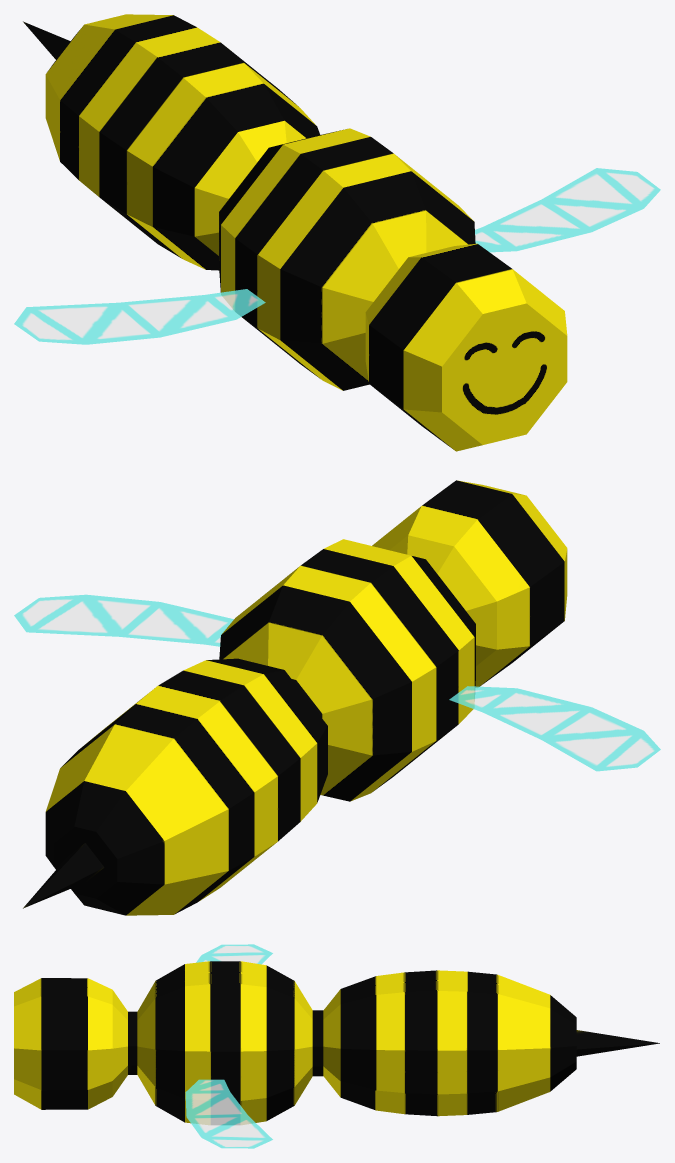
Rendered from bee.glb.
The picture shows the model from 3 angles, top to bottom: view 1: azimuth 30°, elevation 25°; view 2: azimuth 150°, elevation 25°; view 3: azimuth 270°, elevation 25°; orthographic projection. The views are drawn at different scales.
Parts seen in each view (by area): view 1: Cube, RWing, LWing; view 2: Cube, RWing, LWing; view 3: Cube, LWing, RWing.
Boxes of the visible parts, left/top/right/bottom form: Cube: left=23, top=14, right=567, bottom=451; RWing: left=14, top=289, right=265, bottom=344; LWing: left=475, top=168, right=660, bottom=252; Cube: left=23, top=480, right=567, bottom=915; RWing: left=449, top=686, right=660, bottom=771; LWing: left=14, top=594, right=233, bottom=646; Cube: left=14, top=961, right=659, bottom=1124; LWing: left=185, top=1079, right=272, bottom=1148; RWing: left=196, top=944, right=272, bottom=964.
Size of the model in its own units: 0.8118 by 0.2619 by 1.09.
3 materials, 3 textured.
